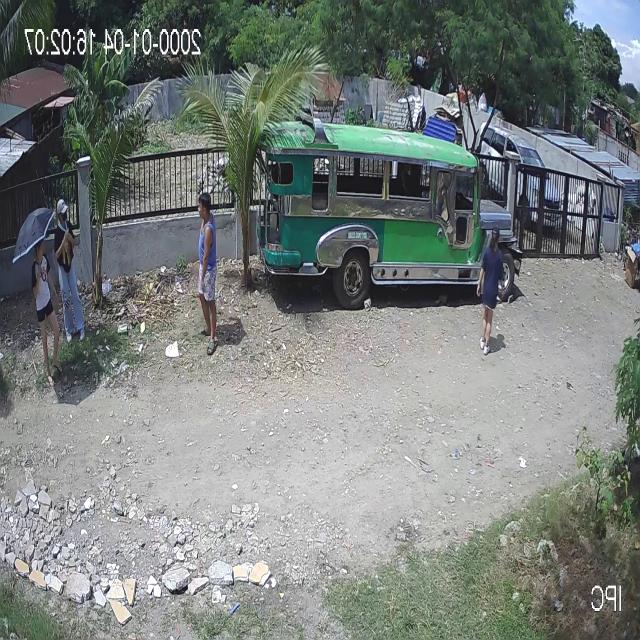standing: (54, 194, 86, 343)
walking: (41, 237, 76, 393), (189, 192, 219, 356), (476, 225, 505, 358)
